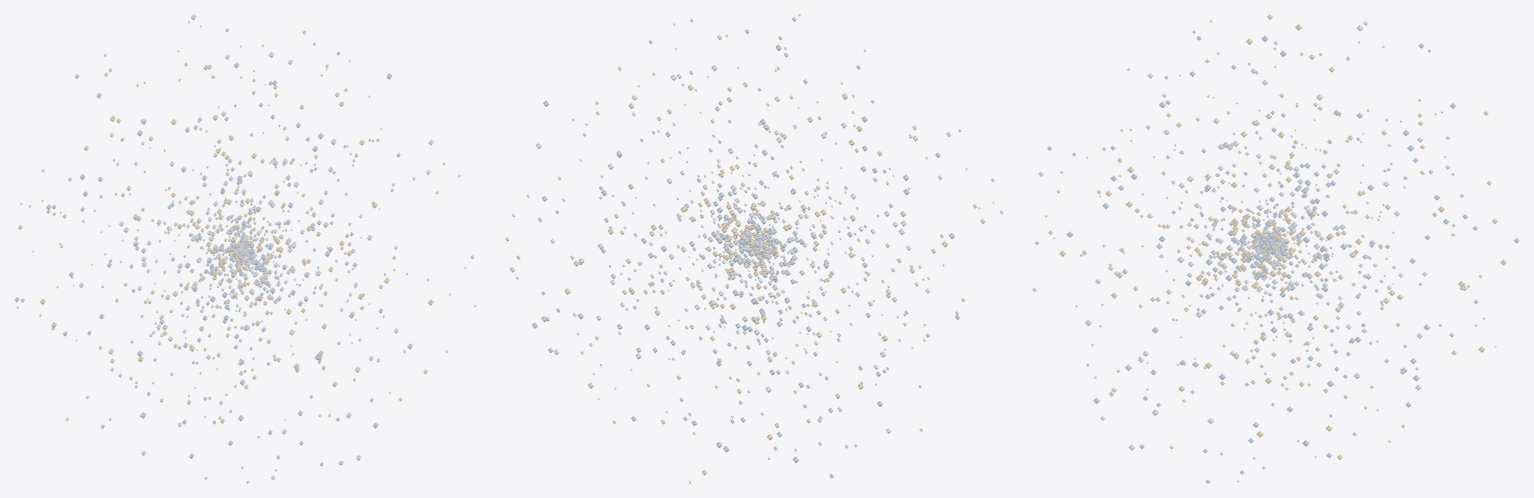
3 renders of one model, left to right at view 1: azimuth 30°, elevation 25°; view 2: azimuth 150°, elevation 25°; view 3: azimuth 270°, elevation 25°, orthographic. The views are drawn at different scales.
Size of the model in its own units: 4.94 by 4.93 by 4.99.
